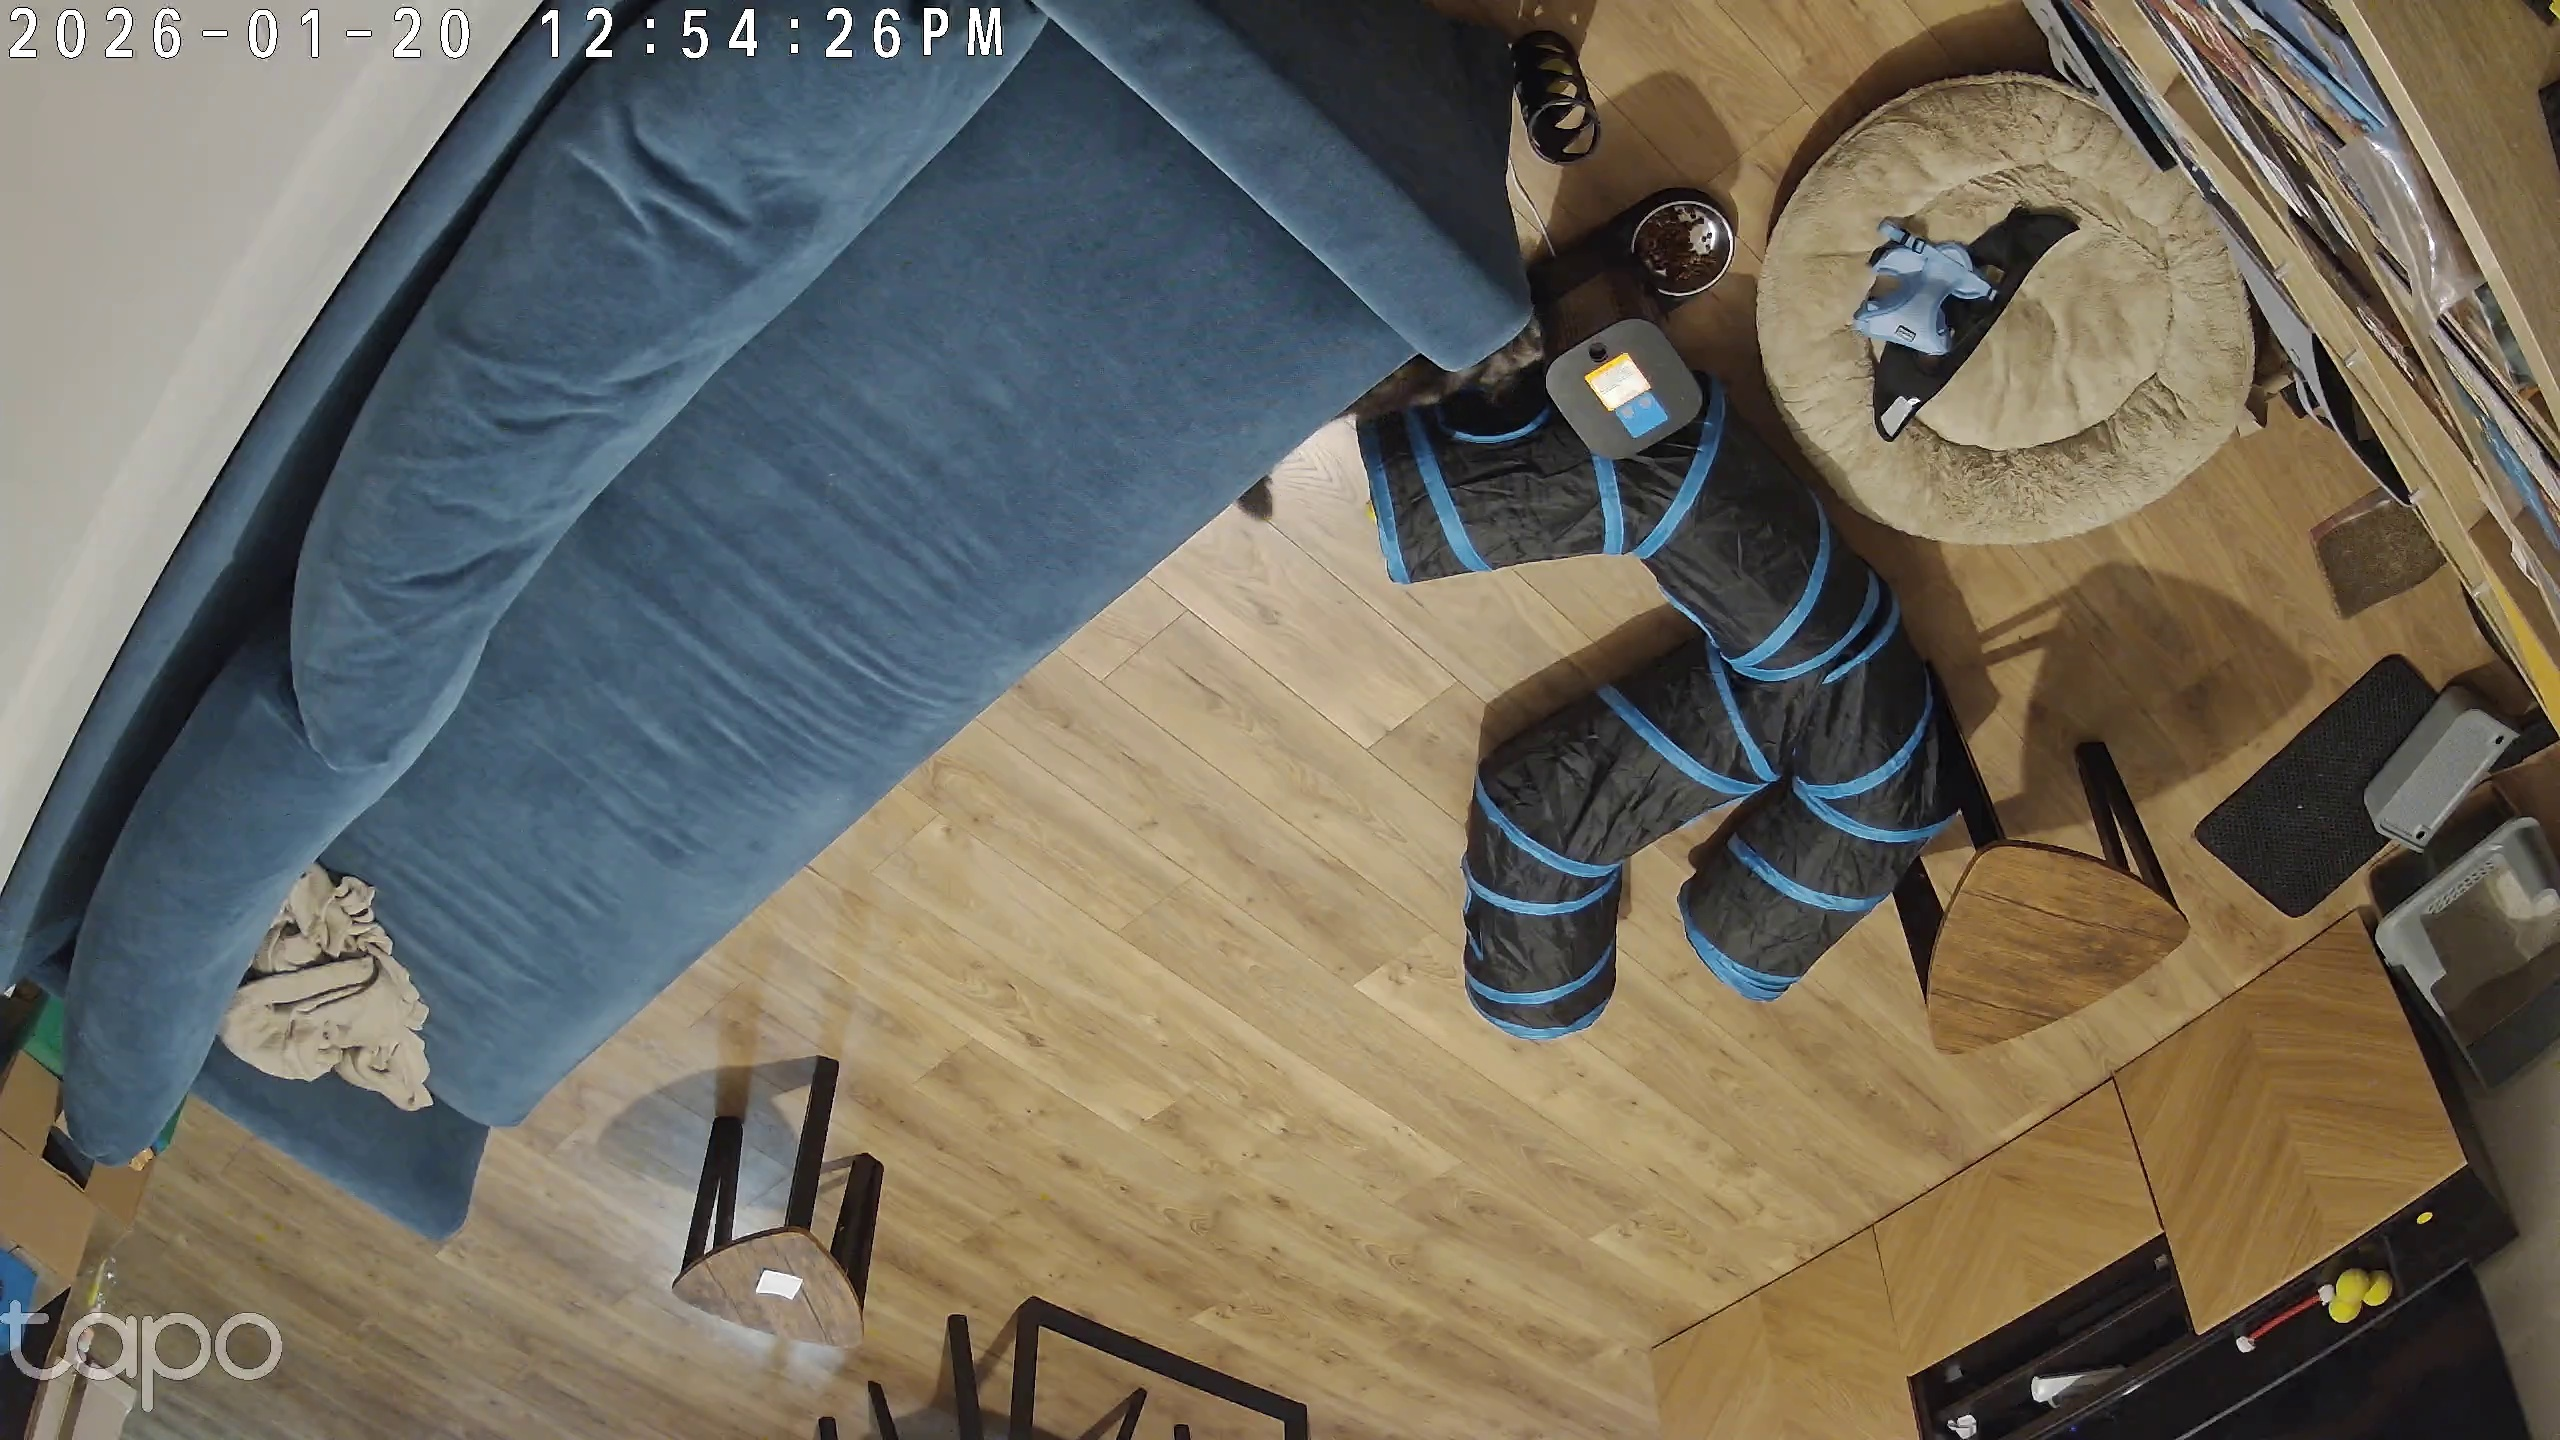Nala: (1229, 292, 1567, 540)
